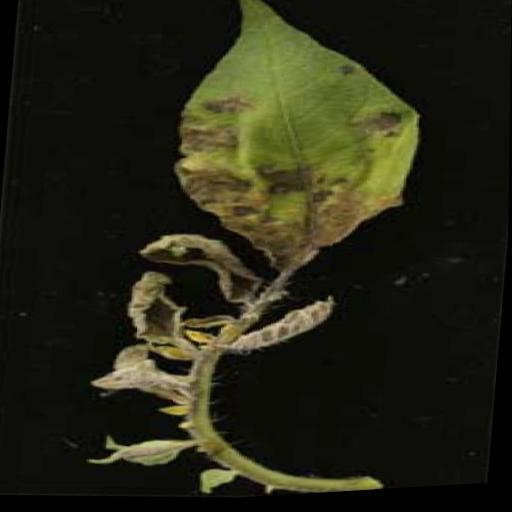Late Blight: (156, 0, 444, 290)
